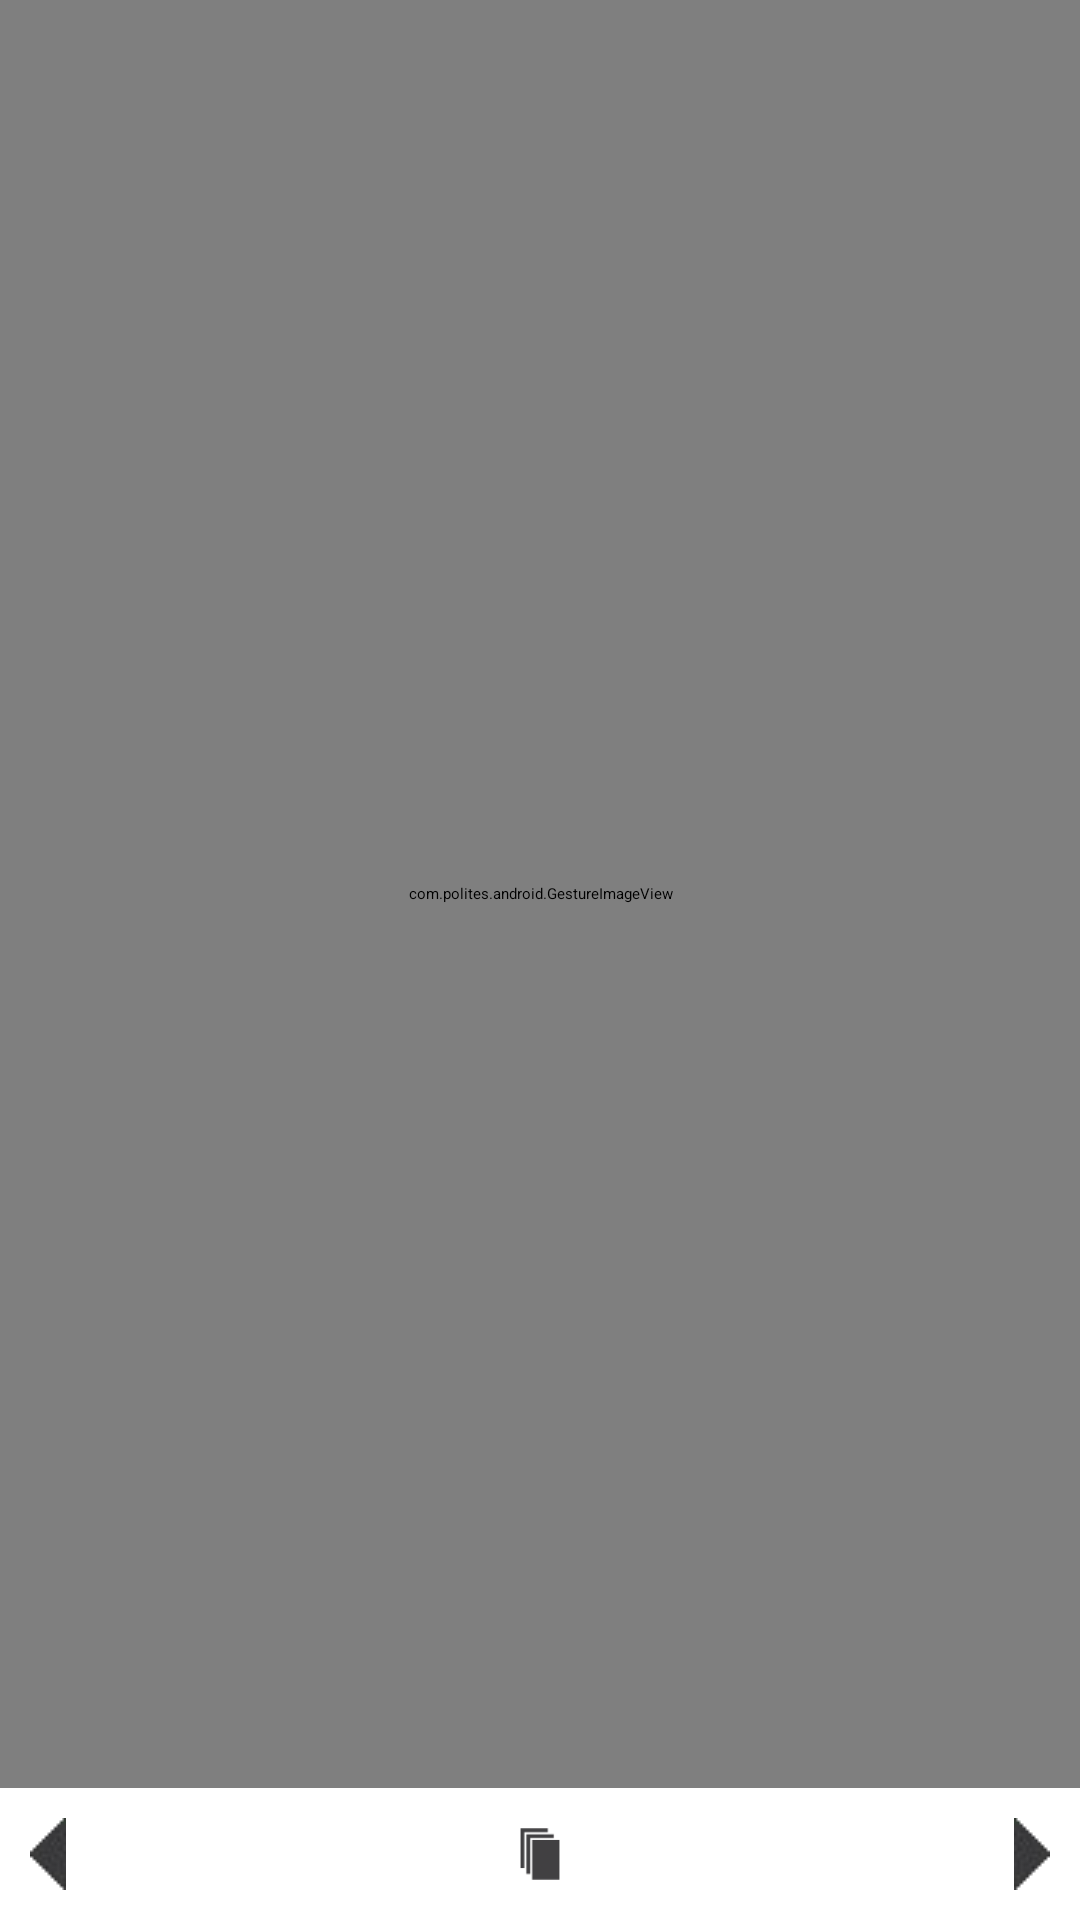

Icon bounding boxes for this 1080px x 1920px phone screenshot, format (x1, y1, x2, y2):
gotopage: (520, 1828, 560, 1880)
picview arrow left: (30, 1818, 66, 1890)
picview arrow right: (1014, 1818, 1050, 1890)
